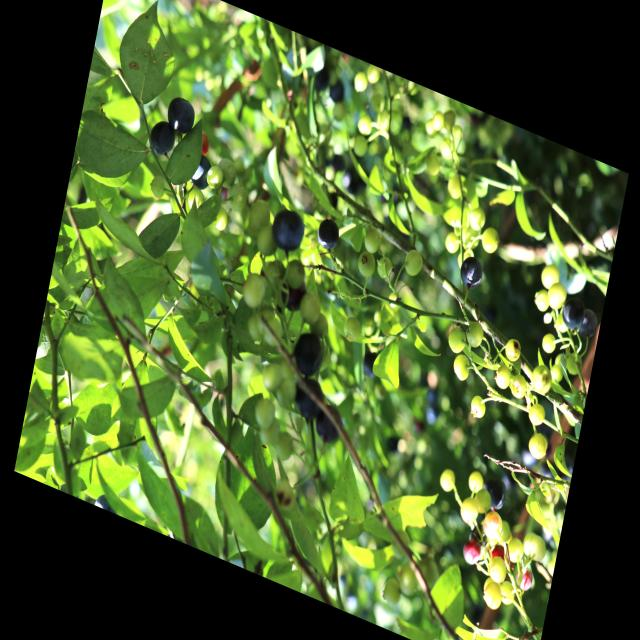blueberry: (268, 202, 308, 258), (290, 327, 328, 382), (292, 374, 327, 426), (164, 91, 198, 137), (146, 115, 178, 162), (314, 402, 345, 448), (278, 272, 308, 316), (480, 472, 510, 516), (187, 150, 215, 194), (559, 292, 588, 334), (314, 213, 342, 255), (456, 252, 484, 293), (576, 304, 600, 342), (358, 349, 380, 383)
blueberry-halfripe: (240, 270, 268, 313), (214, 154, 240, 192), (225, 179, 249, 216), (523, 531, 548, 564), (530, 362, 554, 396), (526, 429, 549, 464), (482, 578, 504, 614), (402, 246, 425, 280), (300, 292, 323, 326), (451, 350, 473, 384), (458, 493, 480, 527), (539, 261, 562, 293), (355, 247, 377, 280), (445, 324, 467, 357), (482, 509, 503, 543), (185, 184, 207, 216), (546, 280, 568, 312), (461, 536, 483, 568), (341, 314, 364, 344), (361, 225, 382, 257), (480, 225, 501, 257), (514, 564, 535, 596), (488, 554, 508, 586), (467, 392, 488, 422), (505, 535, 526, 565), (464, 319, 484, 350), (467, 204, 487, 234), (508, 372, 528, 402), (206, 163, 226, 192), (445, 172, 465, 201), (528, 400, 548, 429), (492, 363, 512, 392), (504, 336, 522, 366), (532, 286, 551, 314), (466, 468, 485, 496), (212, 204, 230, 233), (498, 580, 516, 609), (376, 254, 394, 282), (438, 468, 456, 496), (565, 351, 584, 377), (540, 330, 557, 356), (444, 230, 461, 255)
blueberry-unripe: (352, 67, 370, 96), (352, 130, 369, 159), (356, 112, 375, 136)
